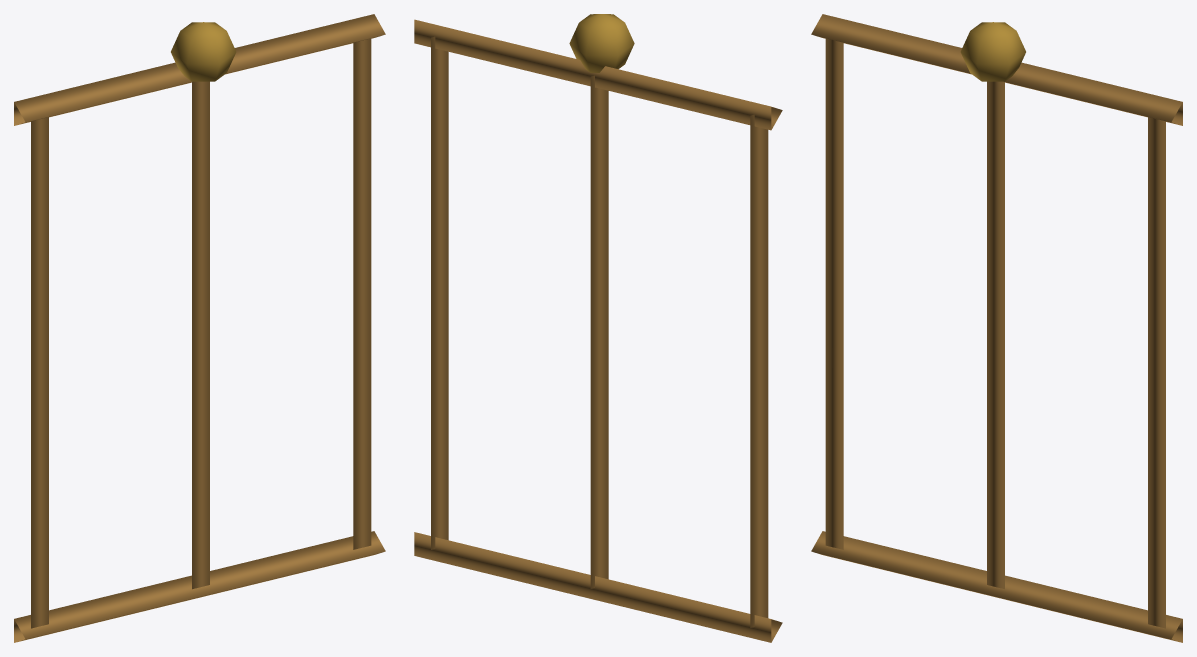
Rendered from cua_long.glb.
3 views of the same model, side by side, from view 1: azimuth 30°, elevation 25°; view 2: azimuth 150°, elevation 25°; view 3: azimuth 330°, elevation 25° (orthographic).
Visible parts, largest first — view 1: cua_long; view 2: cua_long; view 3: cua_long.
Part boxes in pixels (box(x1,y1,x2,y2)): cua_long: box(14, 14, 385, 642); cua_long: box(414, 14, 782, 642); cua_long: box(811, 14, 1182, 642).
Bounding box in the file's own units: 0.0759 × 0.1174 × 0.012.
